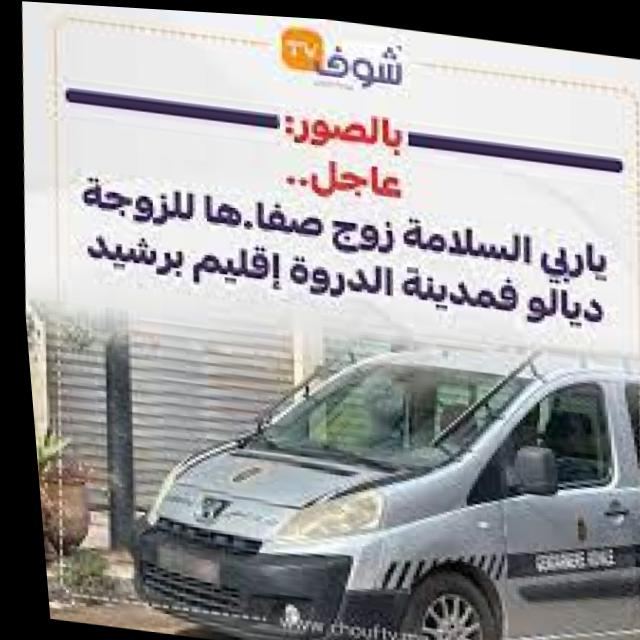gendarme car: (102, 294, 640, 640)
